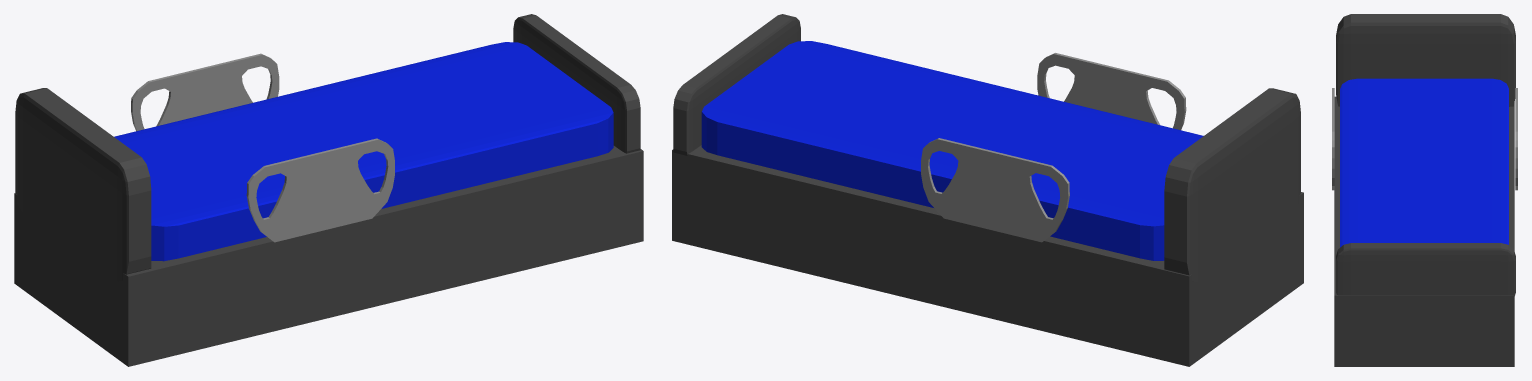
The model's file is Bed.fbx.
3 renders of one model, left to right at view 1: azimuth 30°, elevation 25°; view 2: azimuth 150°, elevation 25°; view 3: azimuth 270°, elevation 25°, orthographic. The views are drawn at different scales.
Parts seen in each view (by area): view 1: Cube.003, Cube.005, Cube.001, Cube, Cube.002, Cube.004; view 2: Cube.003, Cube.005, Cube.001, Cube.004, Cube.002, Cube; view 3: Cube.005, Cube.003, Cube.001, Cube.002, Cube, Cube.004.
Boxes of the visible parts, x1,y1,x2,y2 form: Cube.003: (14, 146, 643, 366); Cube.005: (114, 42, 613, 261); Cube.001: (15, 88, 151, 281); Cube: (246, 138, 394, 242); Cube.002: (513, 14, 640, 153); Cube.004: (131, 53, 279, 131); Cube.003: (672, 145, 1303, 366); Cube.005: (701, 41, 1203, 260); Cube.001: (1164, 88, 1300, 282); Cube.004: (921, 138, 1069, 242); Cube.002: (673, 14, 800, 155); Cube: (1037, 53, 1186, 130); Cube.005: (1340, 78, 1508, 247); Cube.003: (1334, 96, 1514, 366); Cube.001: (1336, 14, 1515, 106); Cube.002: (1336, 243, 1515, 295); Cube: (1332, 88, 1334, 190); Cube.004: (1515, 88, 1517, 190).
Size of the model in its own units: 396 by 144 by 156.
